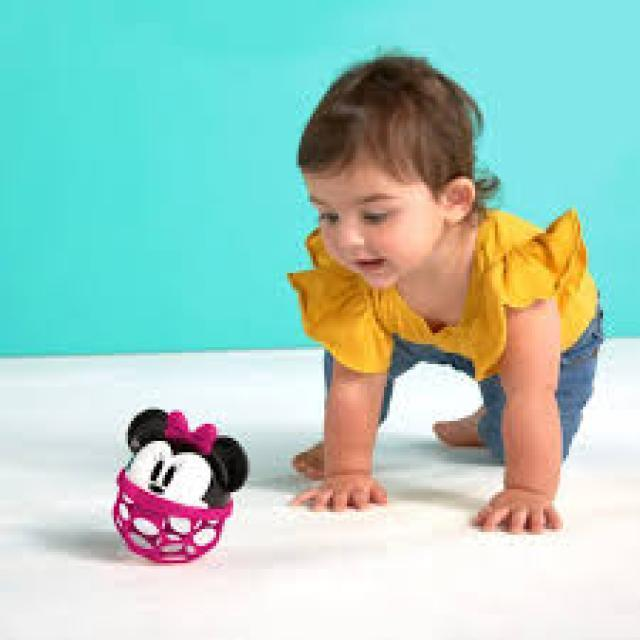hard-toy: (114, 409, 248, 562)
